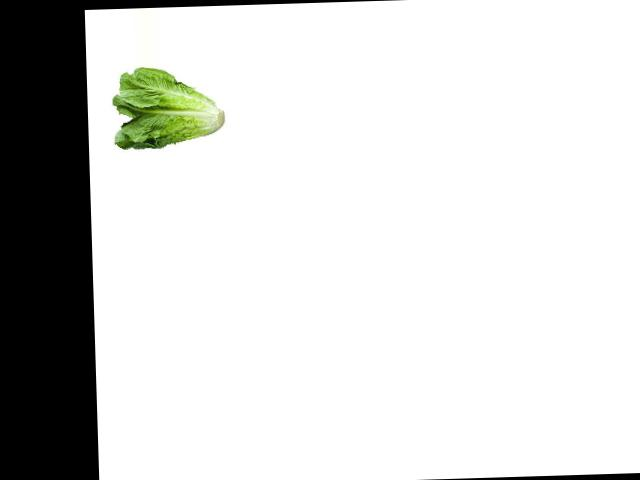lettuce: (111, 65, 228, 152)
